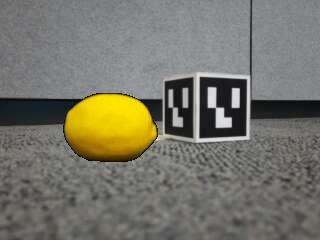lemon: (64, 93, 158, 162)
